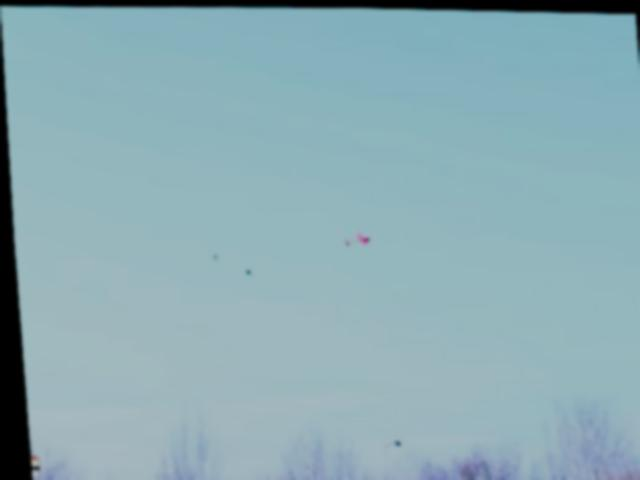uav: (334, 223, 373, 254)
